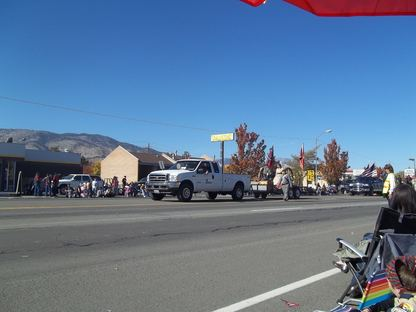car: (348, 176, 386, 196), (332, 181, 349, 192)
truck: (143, 162, 258, 204)
